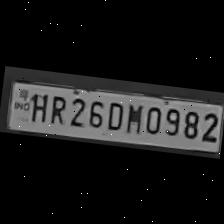0: (140, 102, 163, 136)
2: (64, 92, 88, 128), (196, 107, 220, 143)
6: (82, 96, 106, 130)
8: (178, 106, 200, 141)
9: (160, 104, 182, 138)
D: (102, 97, 125, 131)
H: (26, 88, 48, 124)
M: (120, 99, 144, 134)
R: (44, 90, 68, 126)
